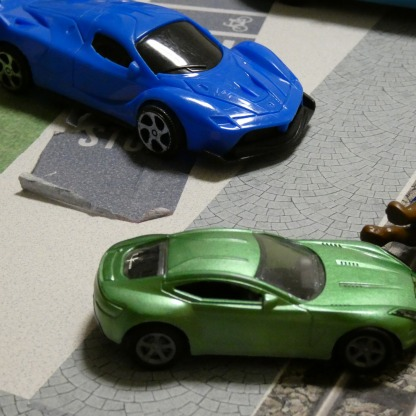car: (0, 0, 314, 174), (93, 231, 416, 375)
